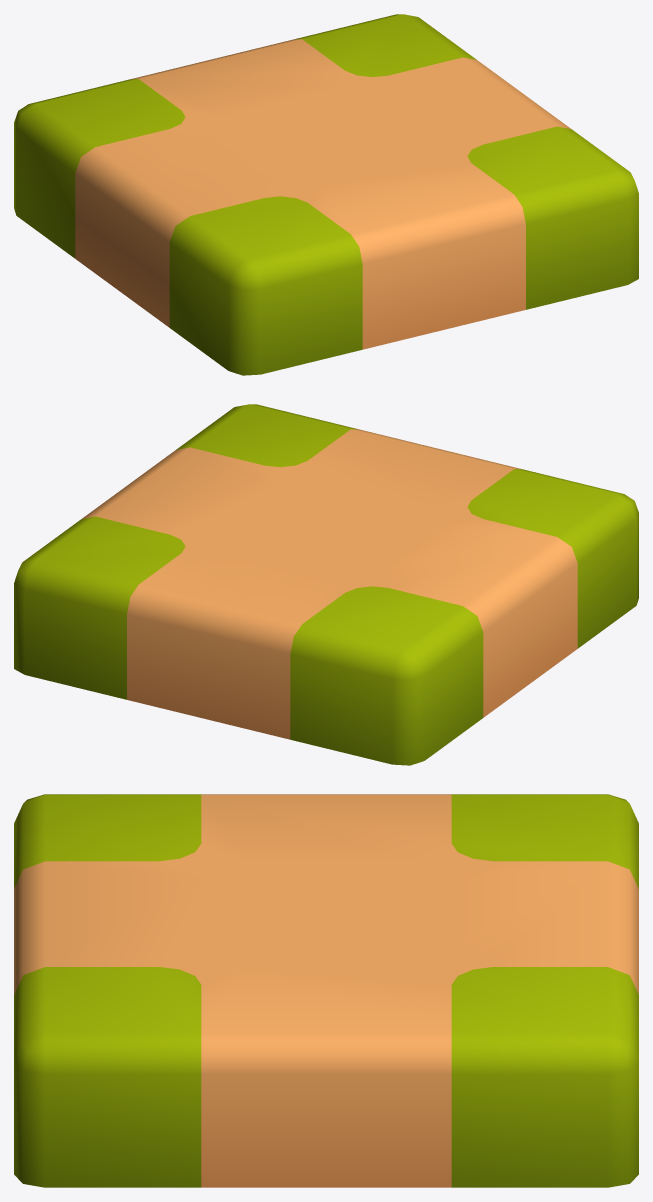
Rendered from 3D_Tile_Top_Path_04.fbx.
The picture shows the model from 3 angles, top to bottom: view 1: azimuth 30°, elevation 25°; view 2: azimuth 150°, elevation 25°; view 3: azimuth 270°, elevation 25°; orthographic projection. The views are drawn at different scales.
Parts seen in each view (by area): view 1: 3D_Tile_Top_Path_04; view 2: 3D_Tile_Top_Path_04; view 3: 3D_Tile_Top_Path_04.
Part boxes in pixels (box(x1,y1,x2,y2)): 3D_Tile_Top_Path_04: box(14, 14, 638, 375); 3D_Tile_Top_Path_04: box(14, 404, 638, 765); 3D_Tile_Top_Path_04: box(14, 794, 638, 1187).
Bounding box in the file's own units: 200 × 50 × 200.
